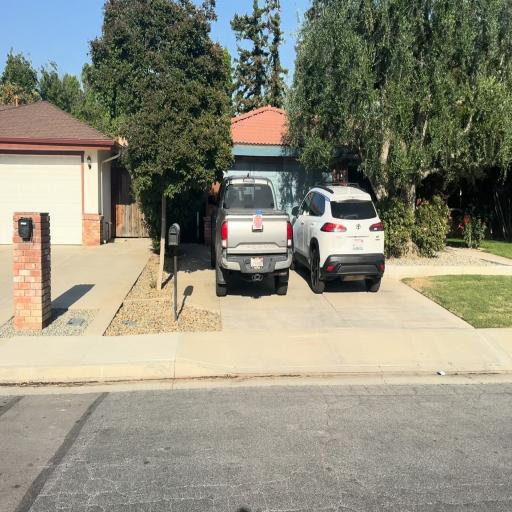bullseye: (253, 214, 262, 229)
